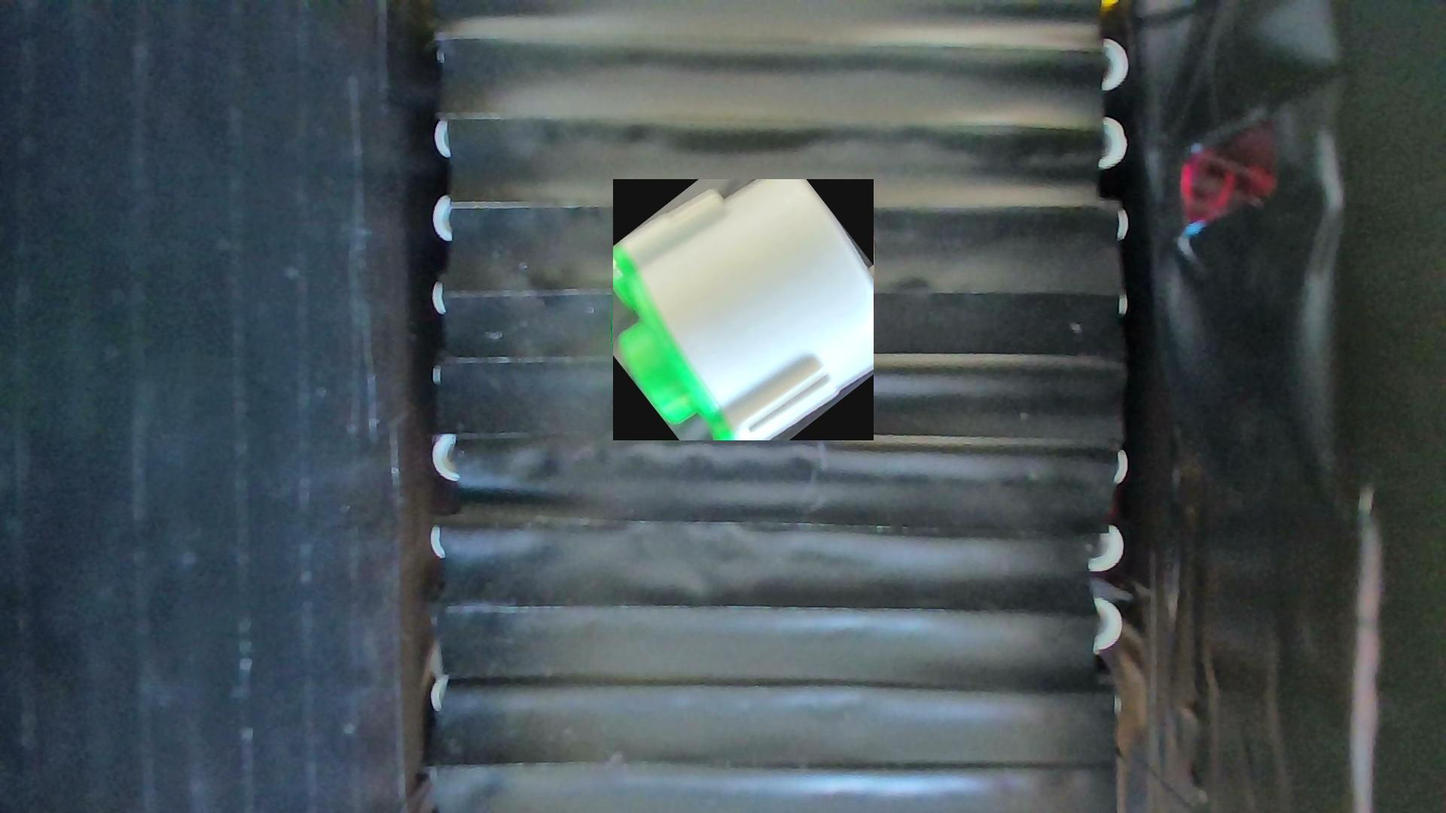cartridge: (613, 179, 874, 441)
